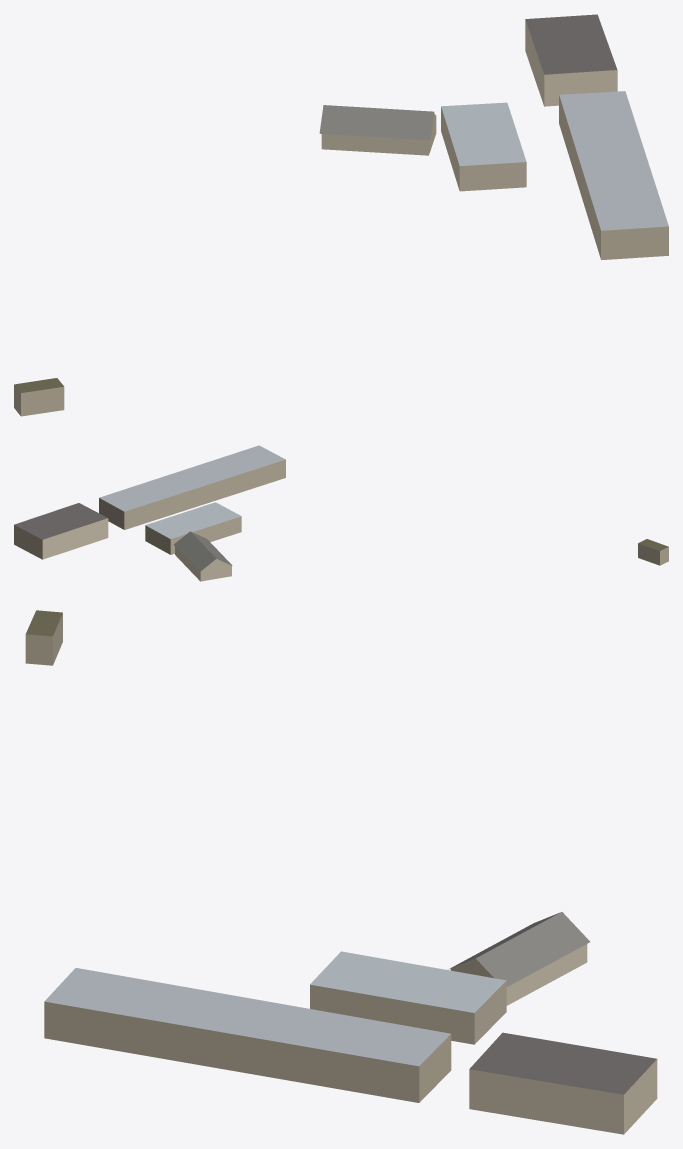
3 views of the same model, one above another, from view 1: azimuth 30°, elevation 25°; view 2: azimuth 150°, elevation 25°; view 3: azimuth 270°, elevation 25° (orthographic). The views are drawn at different scales.
Parts seen in each view (by area): view 1: tuile; view 2: tuile; view 3: tuile.
Boxes of the visible parts, x1,y1,x2,y2 form: tuile: [14, 14, 668, 416]; tuile: [14, 445, 668, 581]; tuile: [25, 610, 657, 1134].
Size of the model in its own units: 176 by 6.96 by 94.71.
